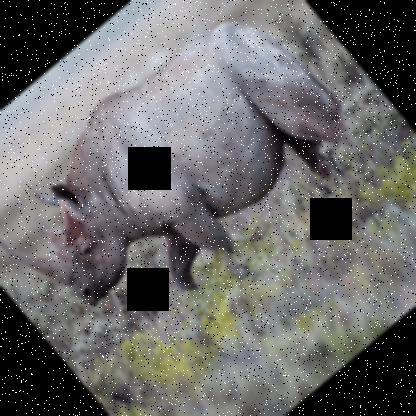Diceros bicornis: (0, 0, 381, 377)
